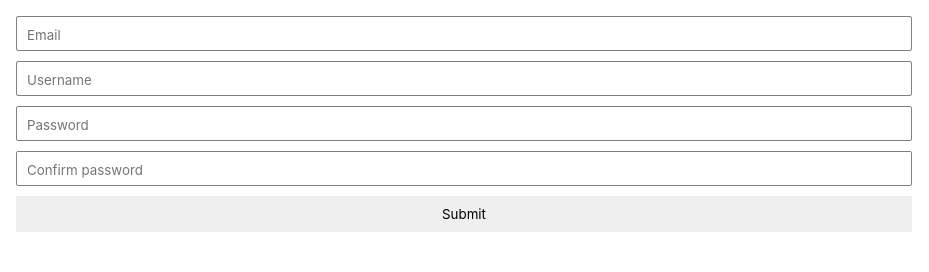
error handling › tests if password and confirm password match › shows error message if passwords do not match
Type "123456" into the password field with placeholder "Password" at (464, 124), box left=16, top=106, right=912, bottom=141
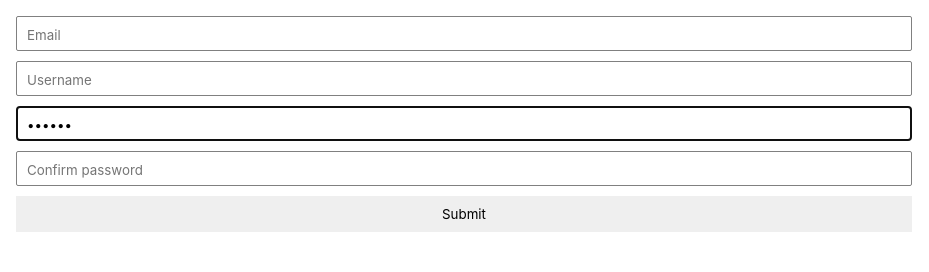
Type "abcdefg" into the password field with placeholder "Confirm password" at (464, 168), box left=16, top=151, right=912, bottom=186
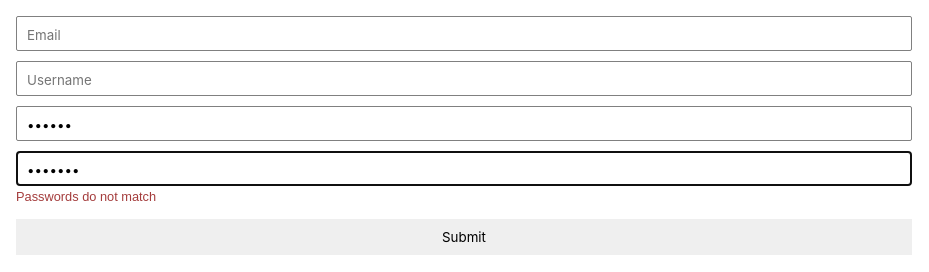
Result: the text "Passwords do not match" is shown at left=16, top=189, right=156, bottom=204
